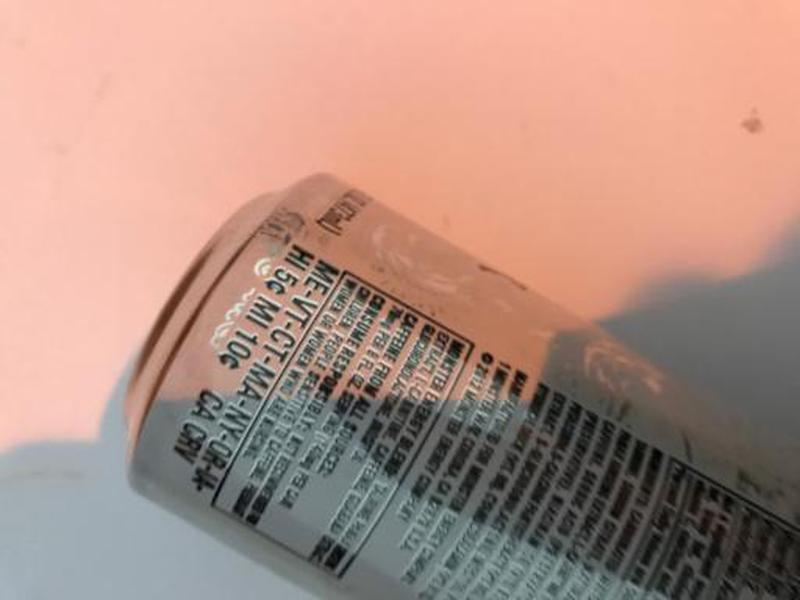can: (113, 169, 800, 600)
